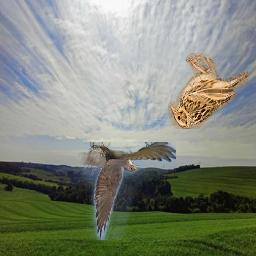Cuckoo: (74, 142, 176, 240)
Sparrow: (168, 53, 248, 129)
